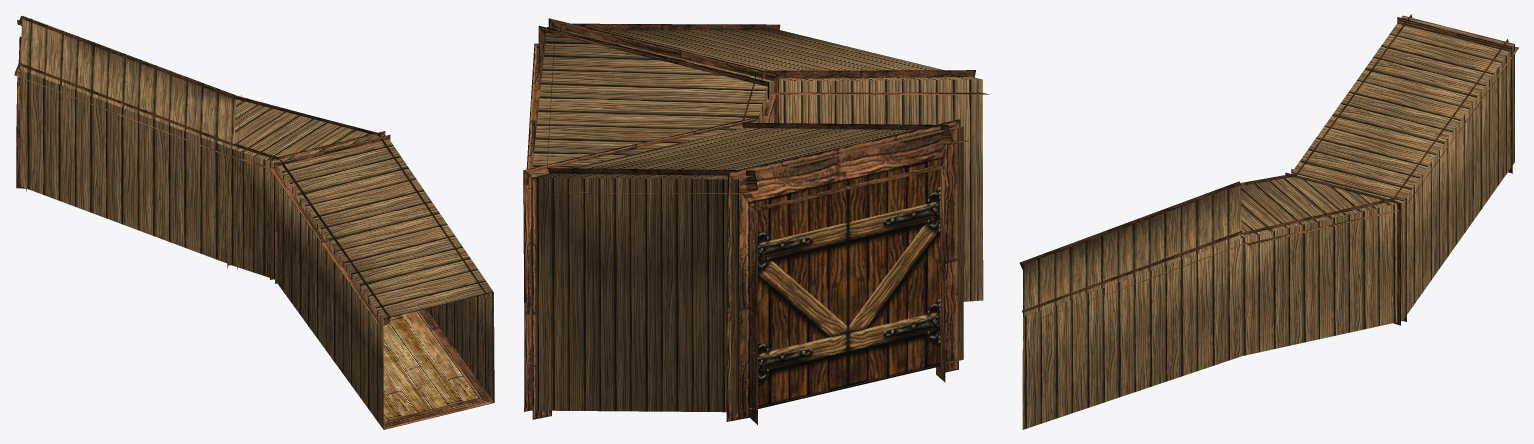
File: LAKETOWN_WAREHOUSE3_PS_WH3_ENTHALL3424__GX.fbx
3 renders of one model, left to right at view 1: azimuth 30°, elevation 25°; view 2: azimuth 150°, elevation 25°; view 3: azimuth 270°, elevation 25°, orthographic. The views are drawn at different scales.
Parts seen in each view (by area): view 1: LAKETOWN_WAREHOUSE3_PS_WH3_ENTHALL3424__GX; view 2: LAKETOWN_WAREHOUSE3_PS_WH3_ENTHALL3424__GX; view 3: LAKETOWN_WAREHOUSE3_PS_WH3_ENTHALL3424__GX.
Part boxes in pixels (<box>): LAKETOWN_WAREHOUSE3_PS_WH3_ENTHALL3424__GX: <box>14,15,494,429</box>; LAKETOWN_WAREHOUSE3_PS_WH3_ENTHALL3424__GX: <box>523,18,989,424</box>; LAKETOWN_WAREHOUSE3_PS_WH3_ENTHALL3424__GX: <box>1019,14,1518,429</box>.
Size of the model in its own units: 79609 by 69529 by 114752.
5 materials, 5 textured.
